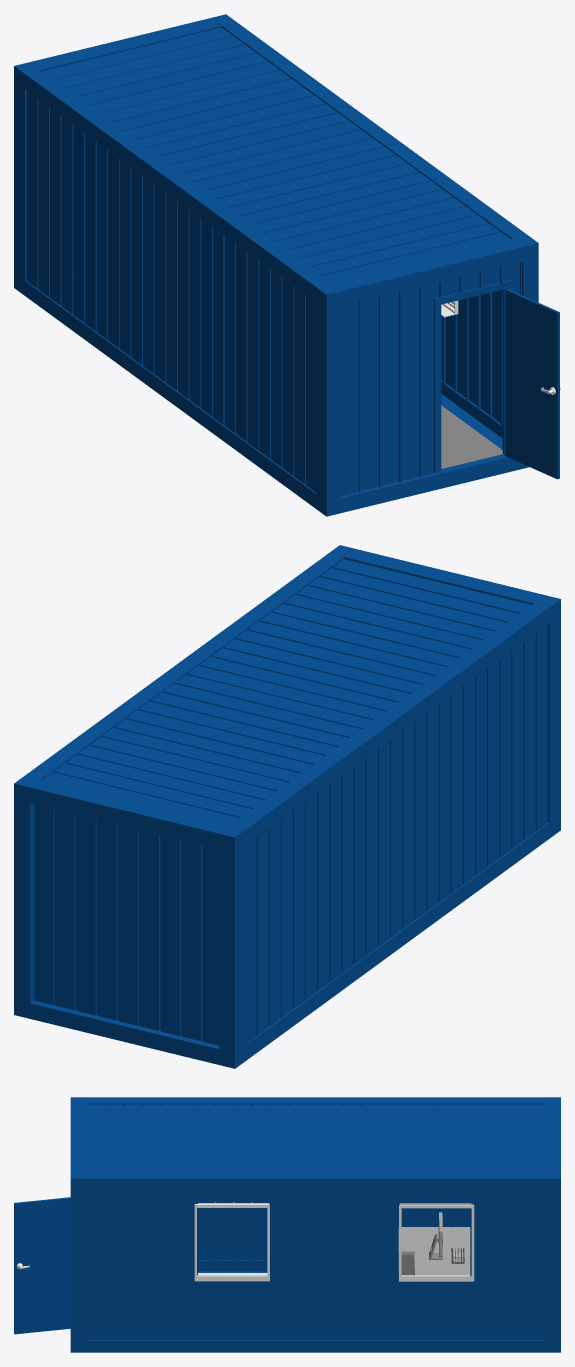
The model's file is ctx4.glb.
The picture shows the model from 3 angles, top to bottom: view 1: azimuth 30°, elevation 25°; view 2: azimuth 150°, elevation 25°; view 3: azimuth 270°, elevation 25°; orthographic projection. The views are drawn at different scales.
Visible parts, largest first — view 1: vorne.002, Dach.001, Gerüst.001, kurz l.001, Door.001, hinten.002, DoorFrame.001, Boden.001; view 2: vorne.002, Dach.001, Gerüst.001, kurz r.001; view 3: hinten.002, Dach.001, Gerüst.001, Door.001, vorne.002, Desk.007, WindowFrame, WindowFrame.001.
Part boxes in pixels (box(x1,y1,x2,y2)): vorne.002: box(26, 90, 315, 491); Dach.001: box(42, 27, 510, 282); Gerüst.001: box(14, 14, 538, 516); kurz l.001: box(341, 262, 521, 495); Door.001: box(505, 289, 559, 479); hinten.002: box(441, 289, 502, 425); DoorFrame.001: box(433, 279, 513, 473); Boden.001: box(441, 405, 502, 468); vorne.002: box(246, 624, 547, 1043); Dach.001: box(43, 559, 530, 825); Gerüst.001: box(14, 545, 560, 1068); kurz r.001: box(34, 804, 219, 1045); hinten.002: box(87, 1190, 543, 1340); Dach.001: box(87, 1104, 543, 1172); Gerüst.001: box(70, 1097, 560, 1352); Door.001: box(14, 1197, 70, 1334); vorne.002: box(198, 1202, 470, 1260); Desk.007: box(398, 1227, 470, 1275); WindowFrame: box(399, 1203, 474, 1281); WindowFrame.001: box(194, 1202, 269, 1281).
Size of the model in its own units: 2.41 by 2.37 by 6.69.
